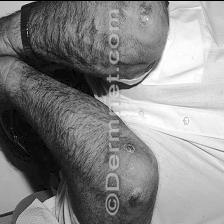Unclassified: (39, 0, 103, 44), (125, 136, 147, 212), (138, 0, 152, 32)
